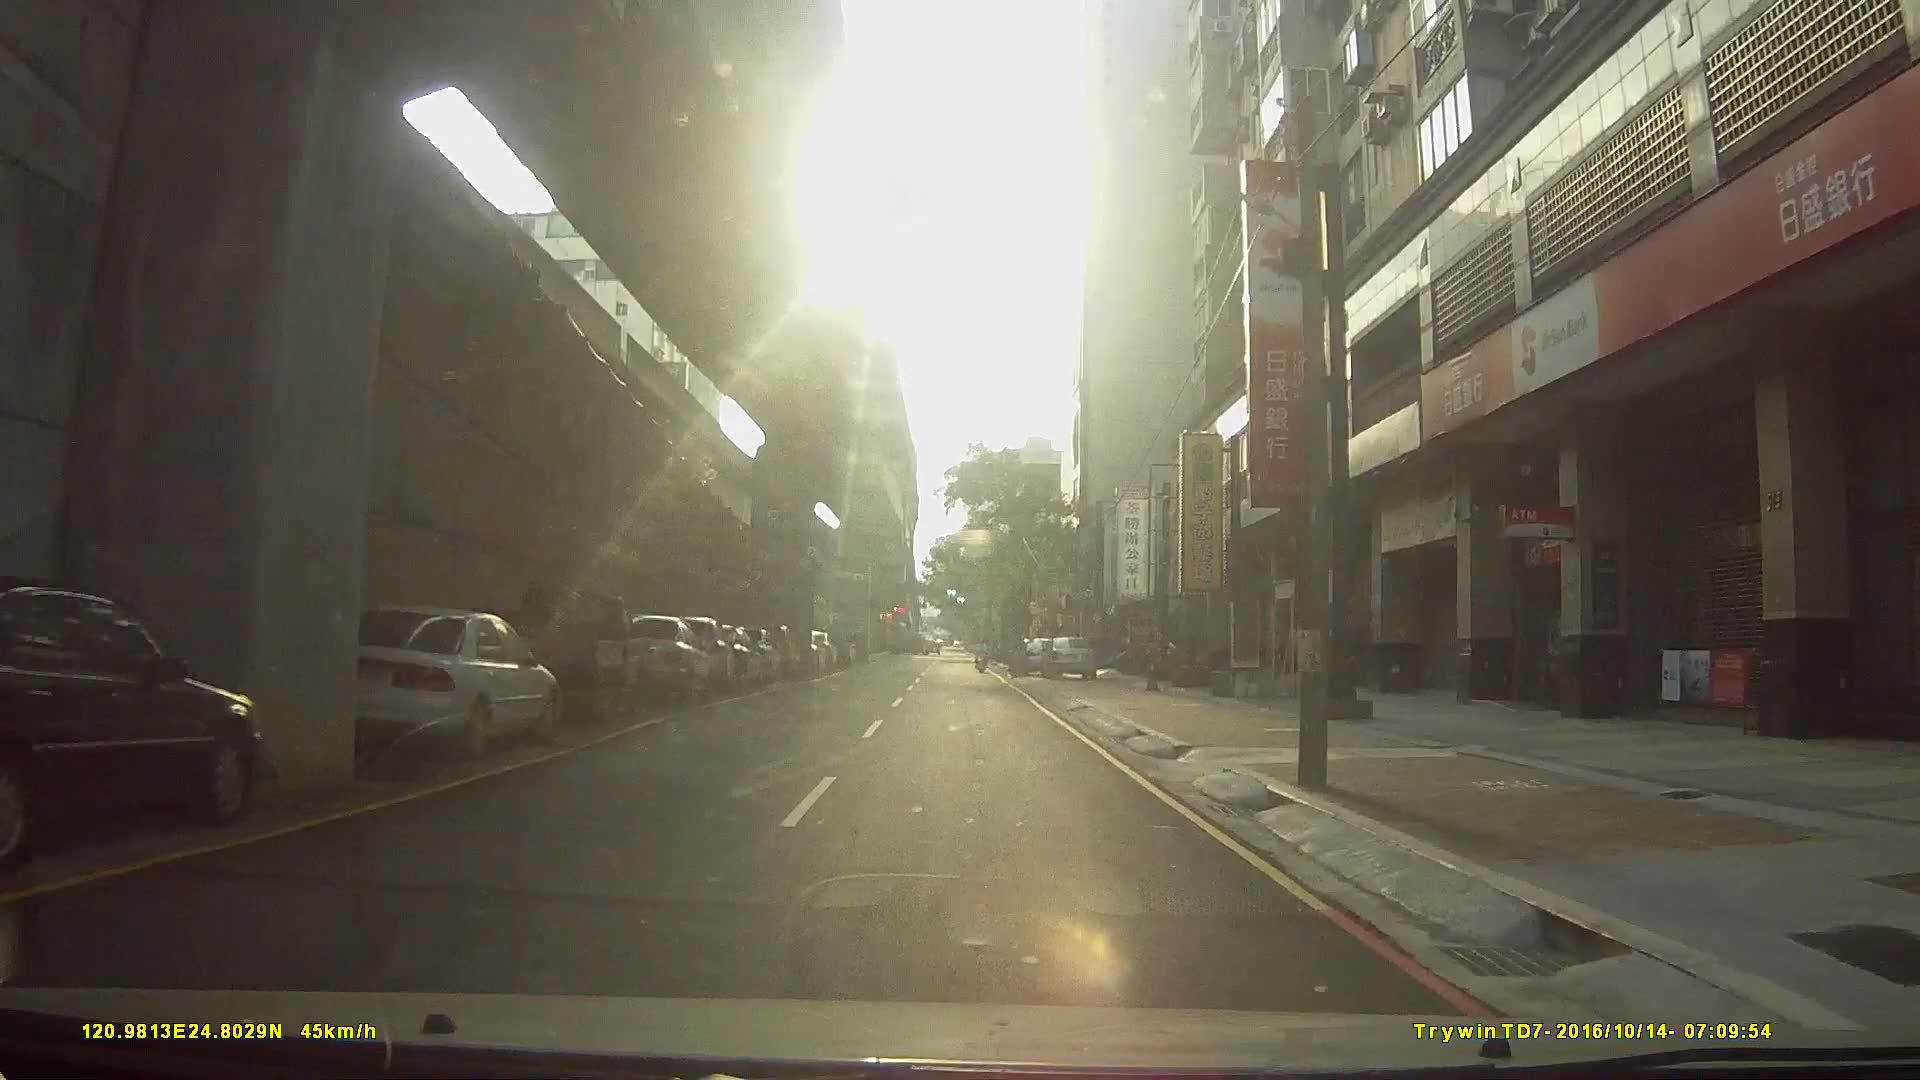vehicle: (0, 579, 262, 873), (318, 603, 555, 764), (464, 588, 646, 717), (592, 615, 715, 709), (659, 620, 794, 670), (1035, 634, 1096, 680)
